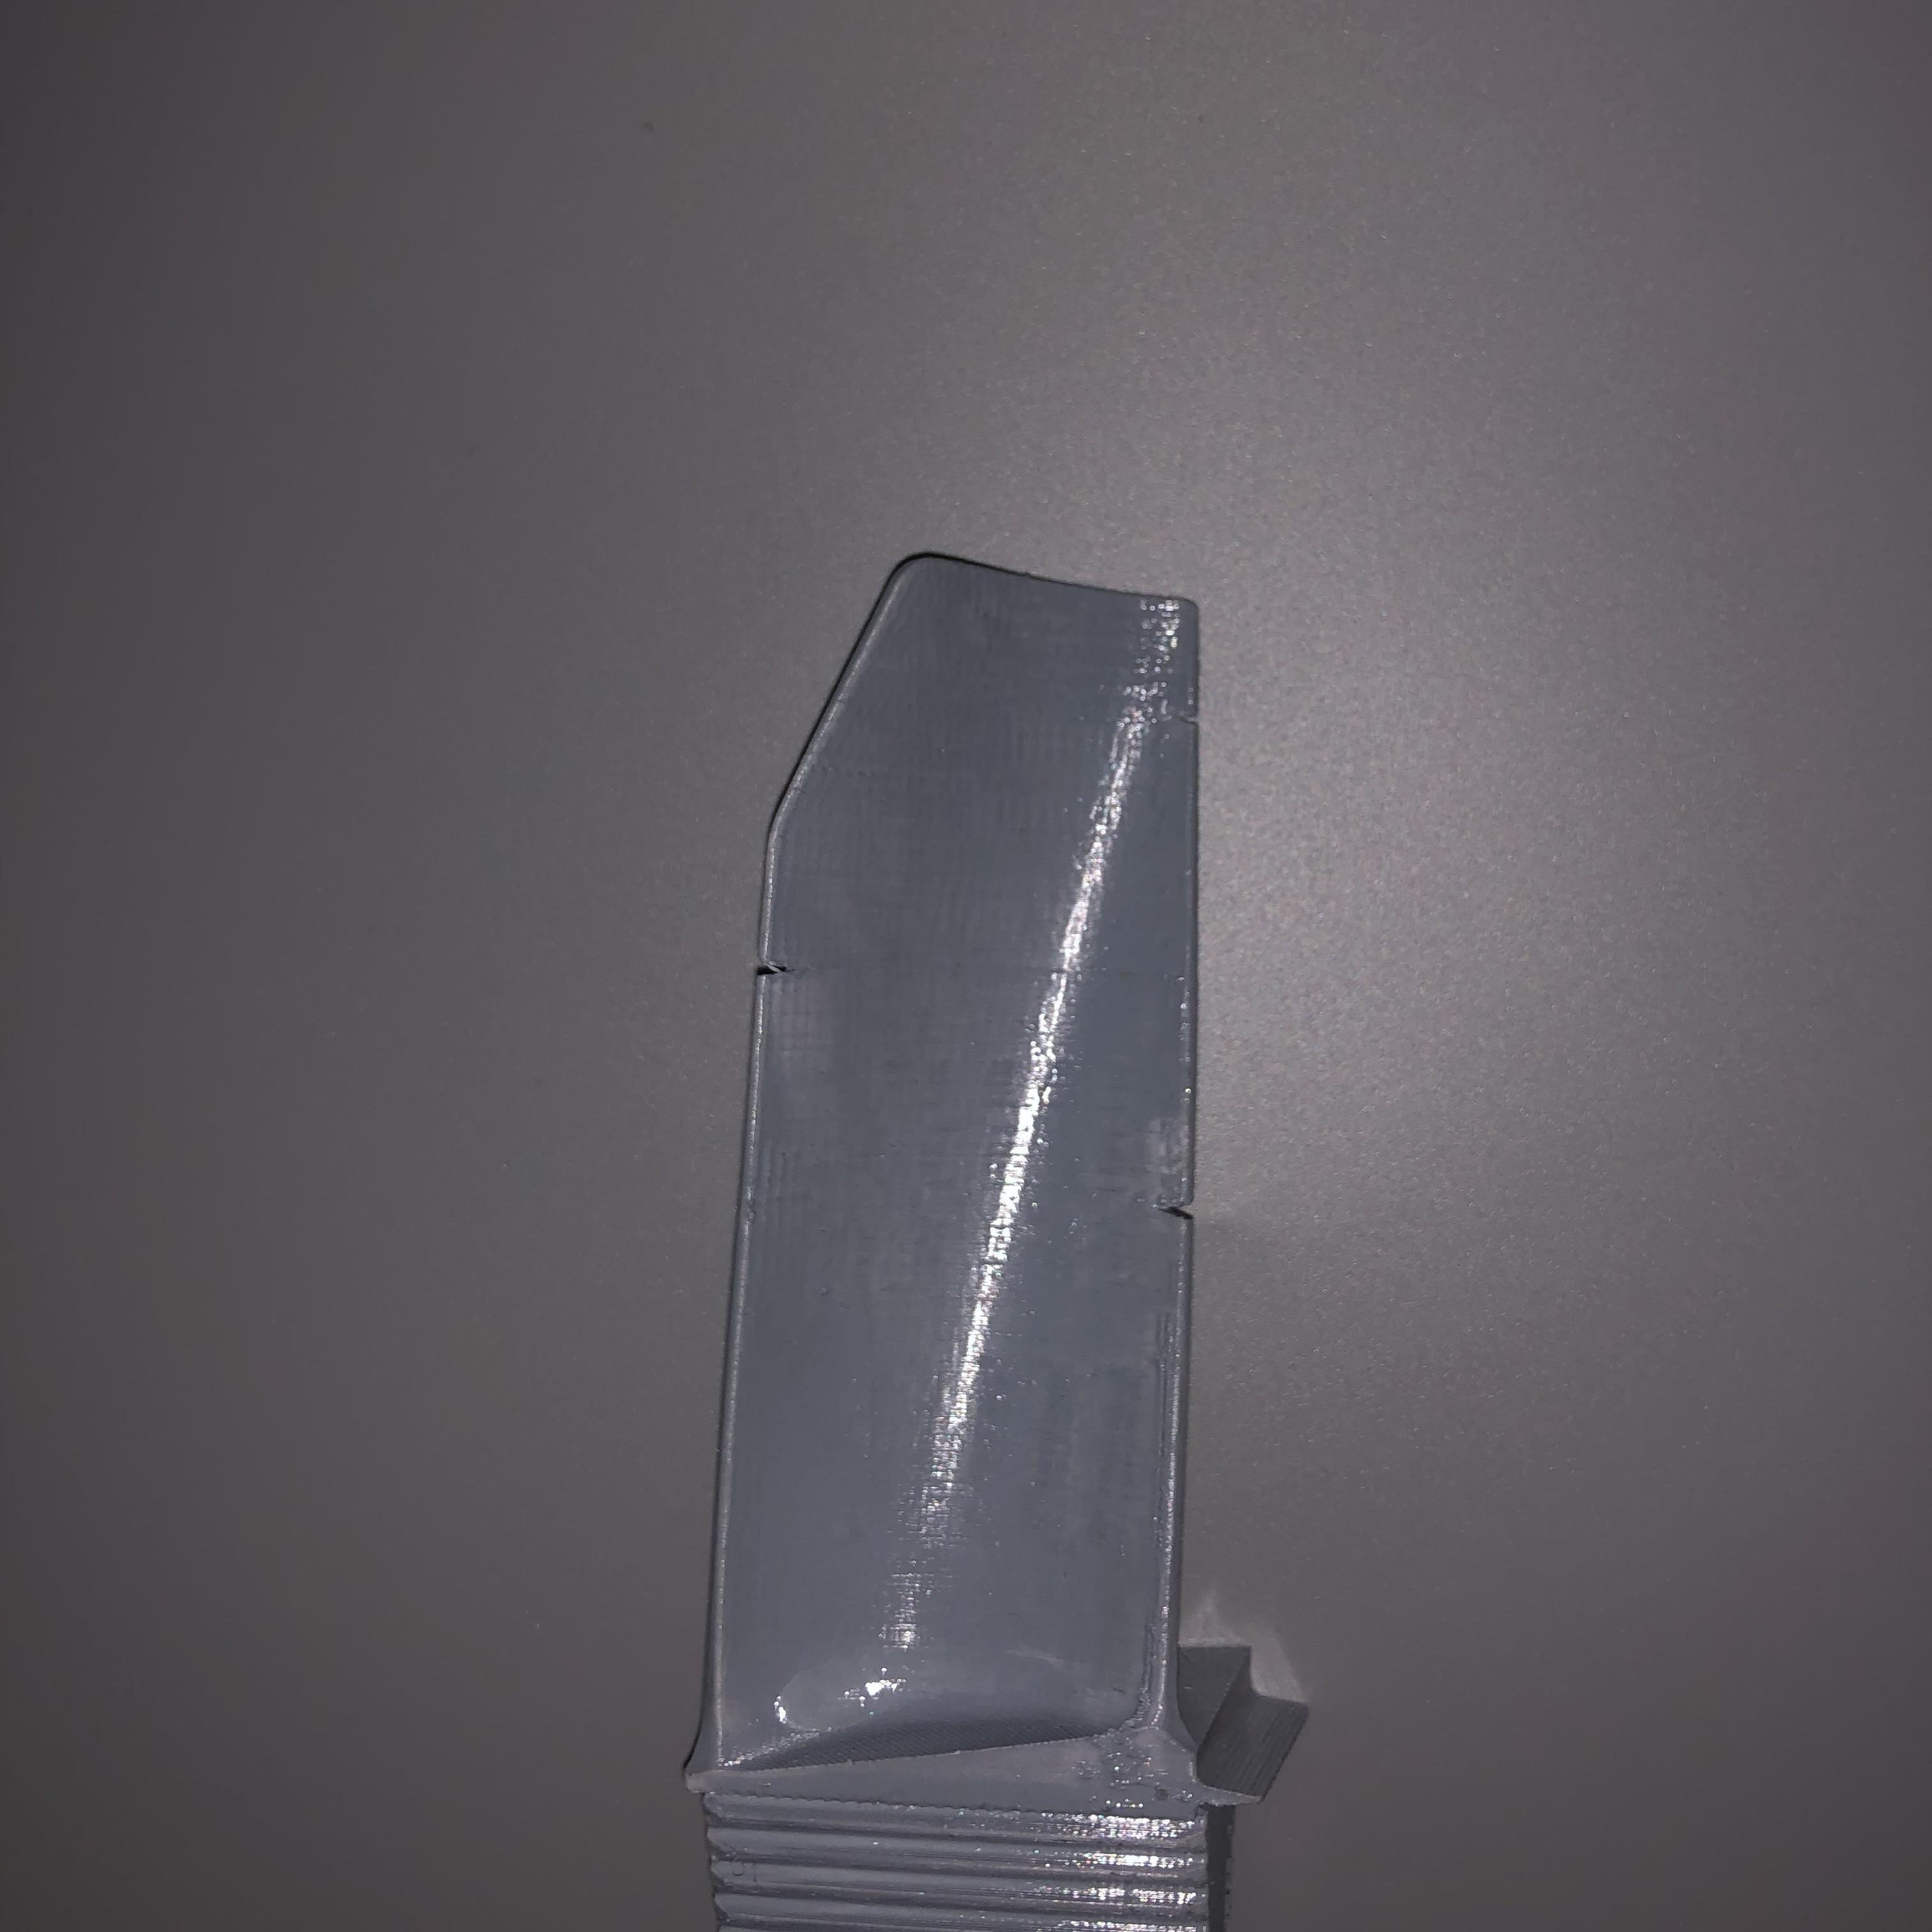groove: (754, 948, 805, 987), (1150, 1196, 1196, 1228)
